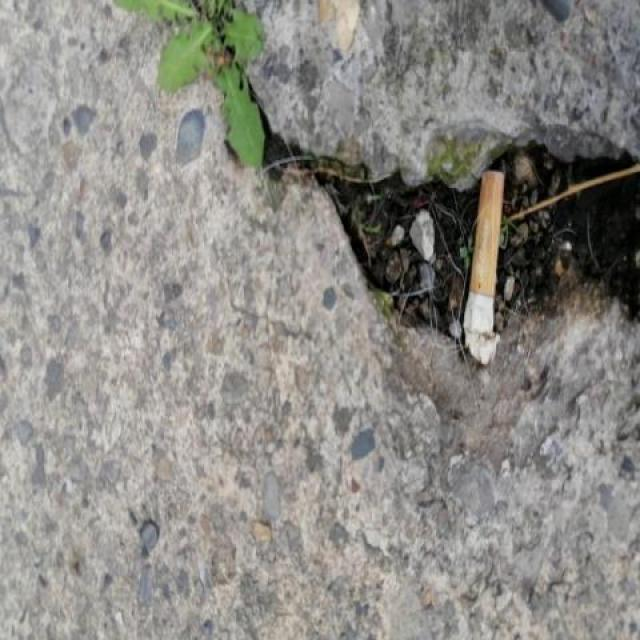non-organic waste: (456, 166, 504, 369)
